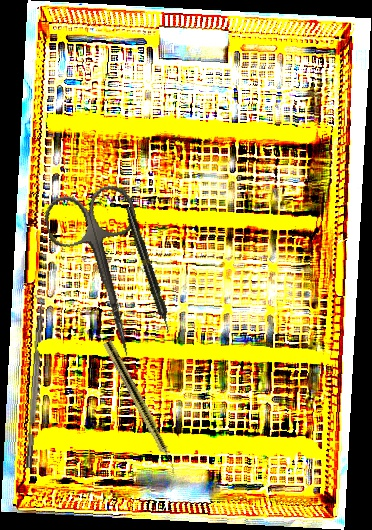Chopper: (17, 294, 47, 469)
Handpiece: (101, 339, 182, 477), (122, 205, 175, 335)
Iris Scissors: (40, 180, 169, 368)
